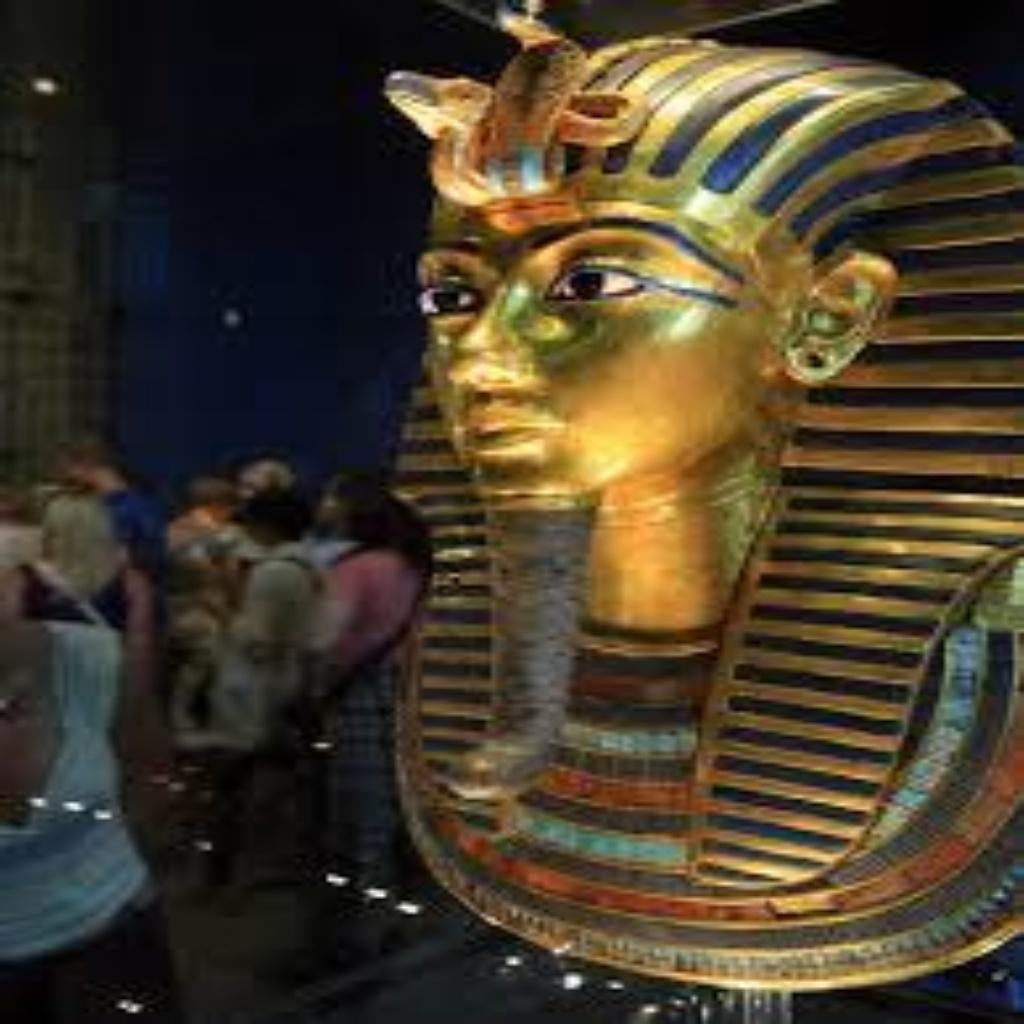Mask of Tutankhamun: (374, 4, 1018, 988)
